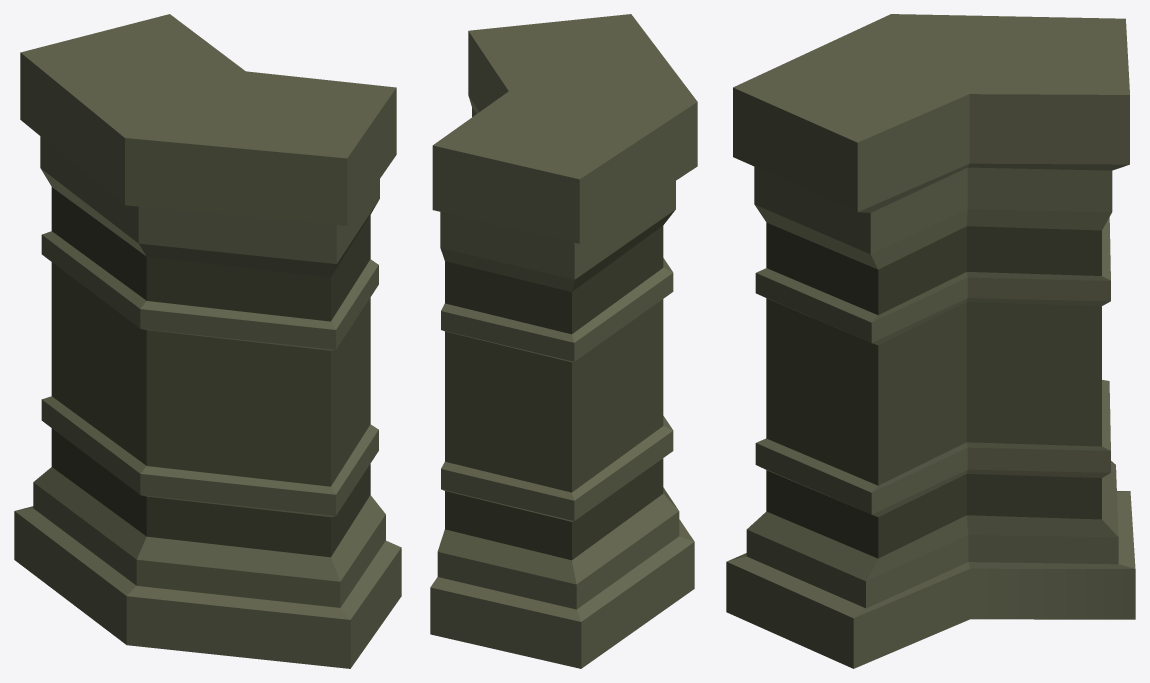
The model's file is SM_Bld_Roof_Edge_Entrance_Corner_02.fbx.
3 renders of one model, left to right at view 1: azimuth 30°, elevation 25°; view 2: azimuth 150°, elevation 25°; view 3: azimuth 270°, elevation 25°, orthographic. The views are drawn at different scales.
Visible parts, largest first — view 1: SM_Bld_Roof_Edge_Entrance_Corner_02; view 2: SM_Bld_Roof_Edge_Entrance_Corner_02; view 3: SM_Bld_Roof_Edge_Entrance_Corner_02.
Part boxes in pixels (x1,y1,x2,y2): SM_Bld_Roof_Edge_Entrance_Corner_02: [14, 14, 401, 668]; SM_Bld_Roof_Edge_Entrance_Corner_02: [430, 14, 697, 668]; SM_Bld_Roof_Edge_Entrance_Corner_02: [726, 14, 1135, 668].
Size of the model in its own units: 85.19 by 160 by 113.
Materials: 1 (1 with a texture image).
